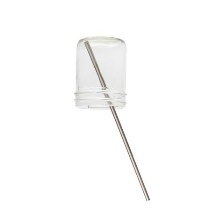drinking_straw: (79, 38, 153, 204)
glass: (68, 34, 131, 114)
